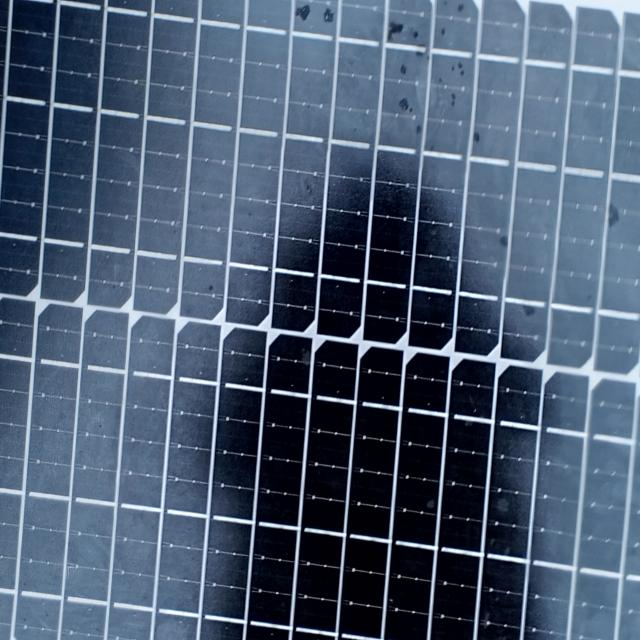Clean: (6, 13, 630, 636)
